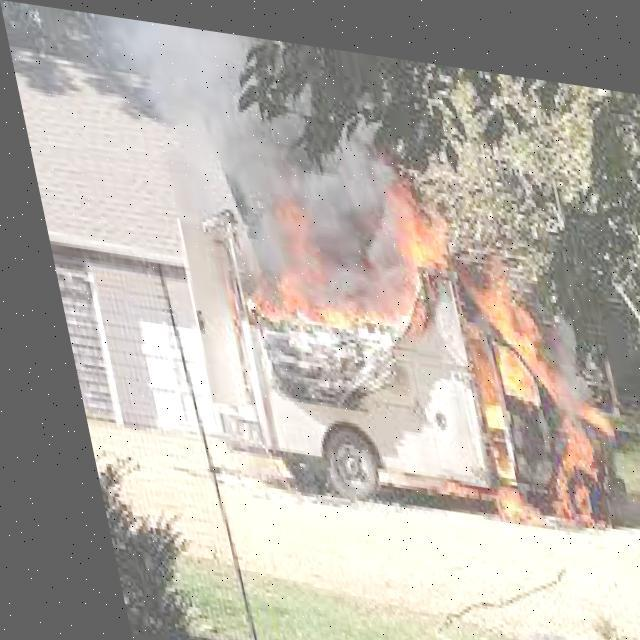Fire: (440, 242, 639, 545), (209, 166, 476, 360)
